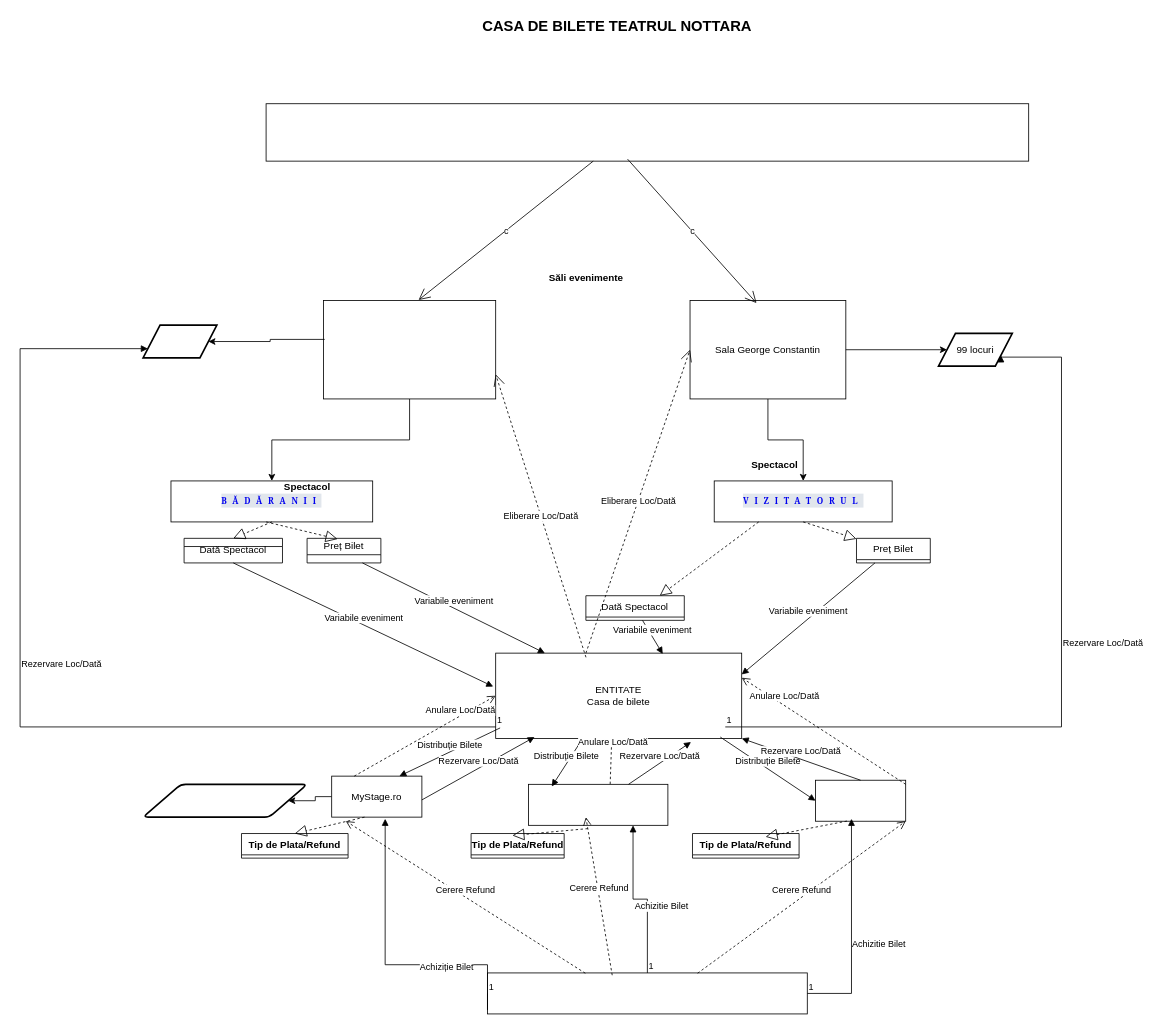
Image size: 1158x1031. Some labels were removed from this diagram. The centre of each missing label's shape, as x and y in pixels:
"485 locuri" goes at point 179,341.
"Agentia de bilete" goes at point 598,804.
"BLT.ro" goes at point 860,800.
"Comision: 11%RON/Bilet" goes at point 225,800.
"Sala Horia lovinescu" goes at point 409,349.
"Spectator" goes at point 647,993.
"Teatrul Nottara" goes at point 647,132.
